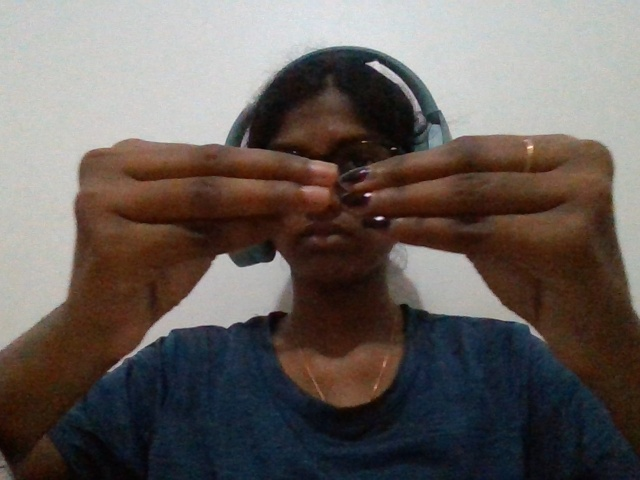More: (38, 122, 632, 429)
